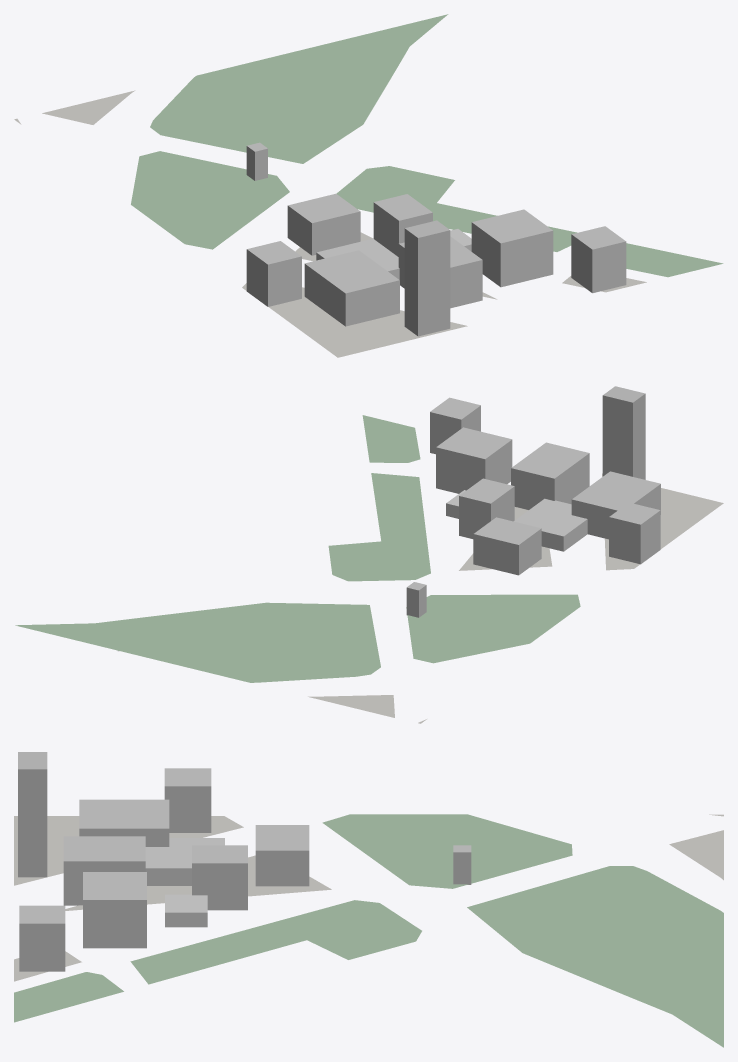
The model's file is 136_87_mid.glb.
3 renders of one model, top to bottom at view 1: azimuth 30°, elevation 25°; view 2: azimuth 150°, elevation 25°; view 3: azimuth 270°, elevation 25°, orthographic. The views are drawn at different scales.
Bounding box in the file's own units: 388 × 83.91 × 500.
